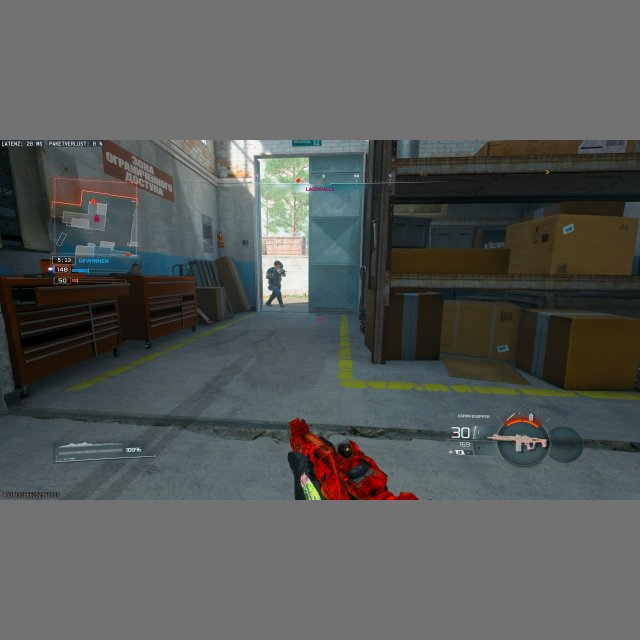head: (275, 260, 283, 268)
player: (265, 260, 286, 307)
